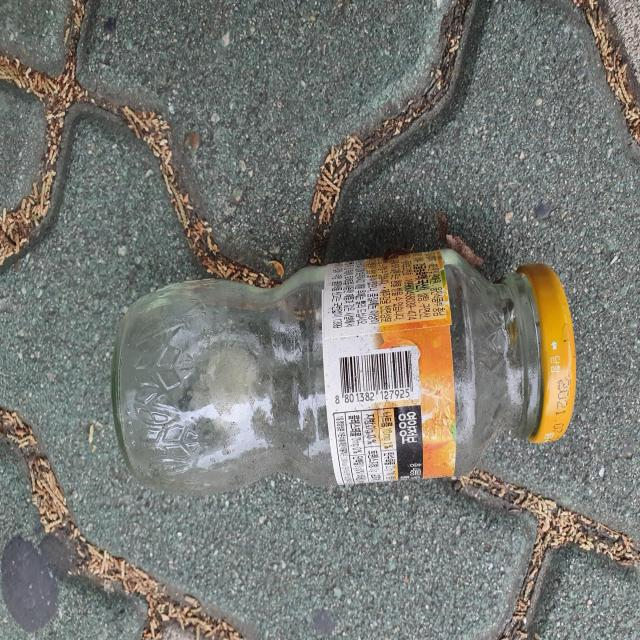glass: (111, 249, 577, 494)
